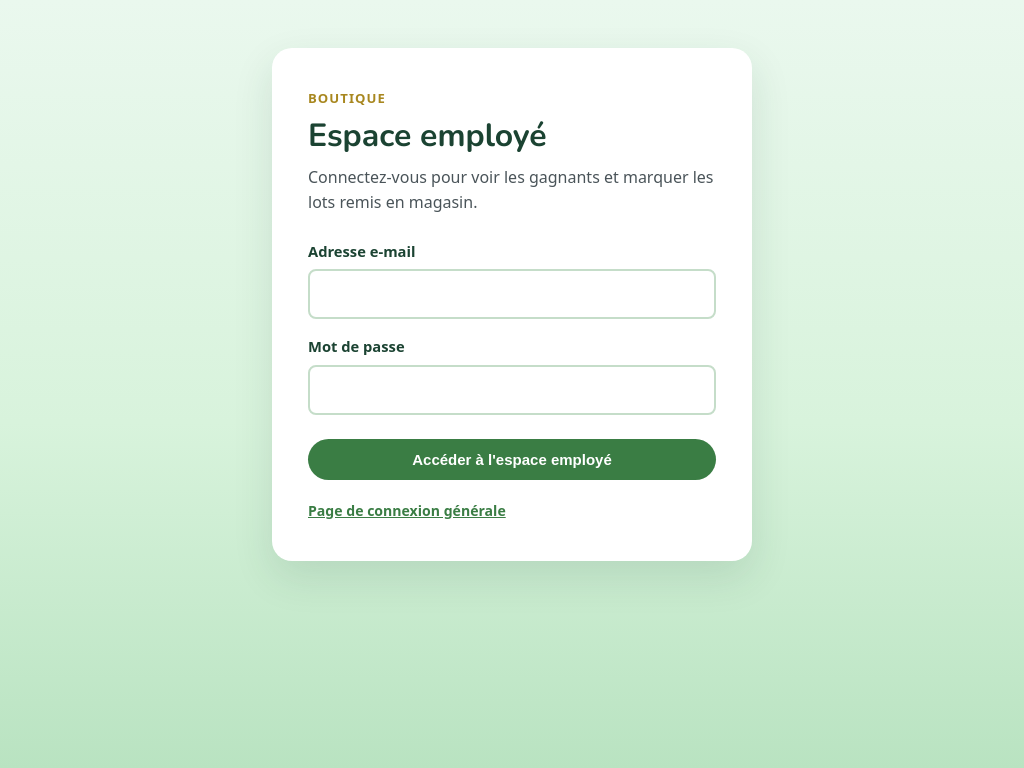
it: Employe › liste qui a gagné quoi après connexion employé
This screenshot has width=1024, height=768.
In the field labelled "Adresse e-mail": (512, 294) [308,269,716,319], type "employe@example.com"
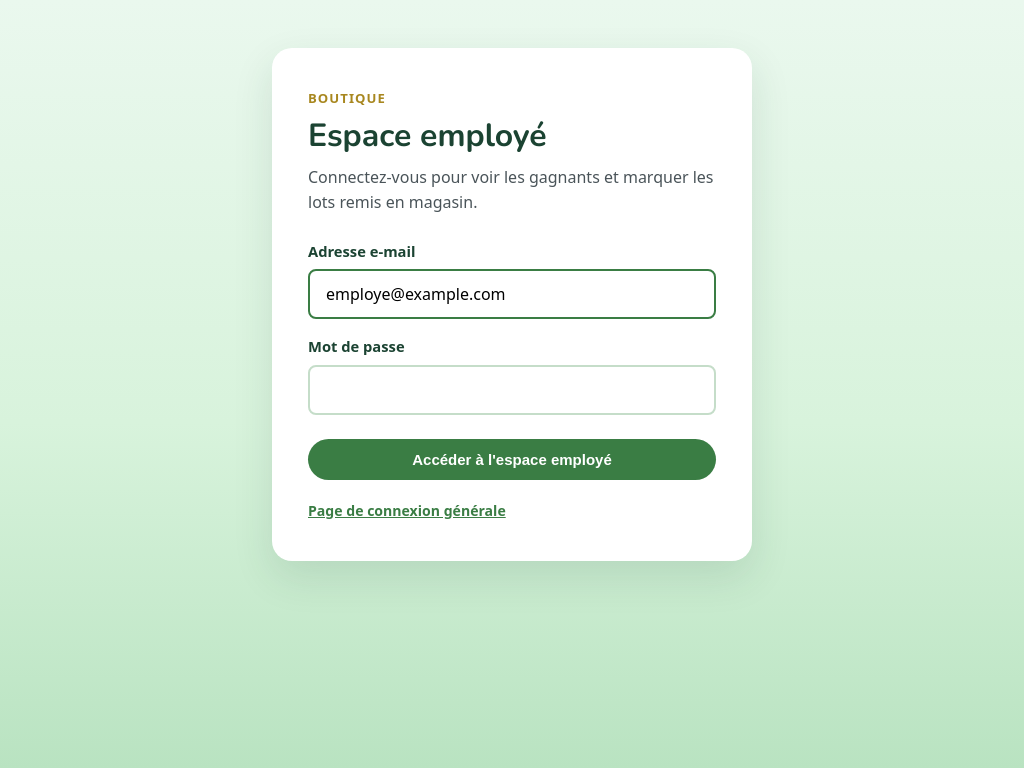
In the password field labelled "Mot de passe": (512, 390) [308,365,716,415], type "Password1!"
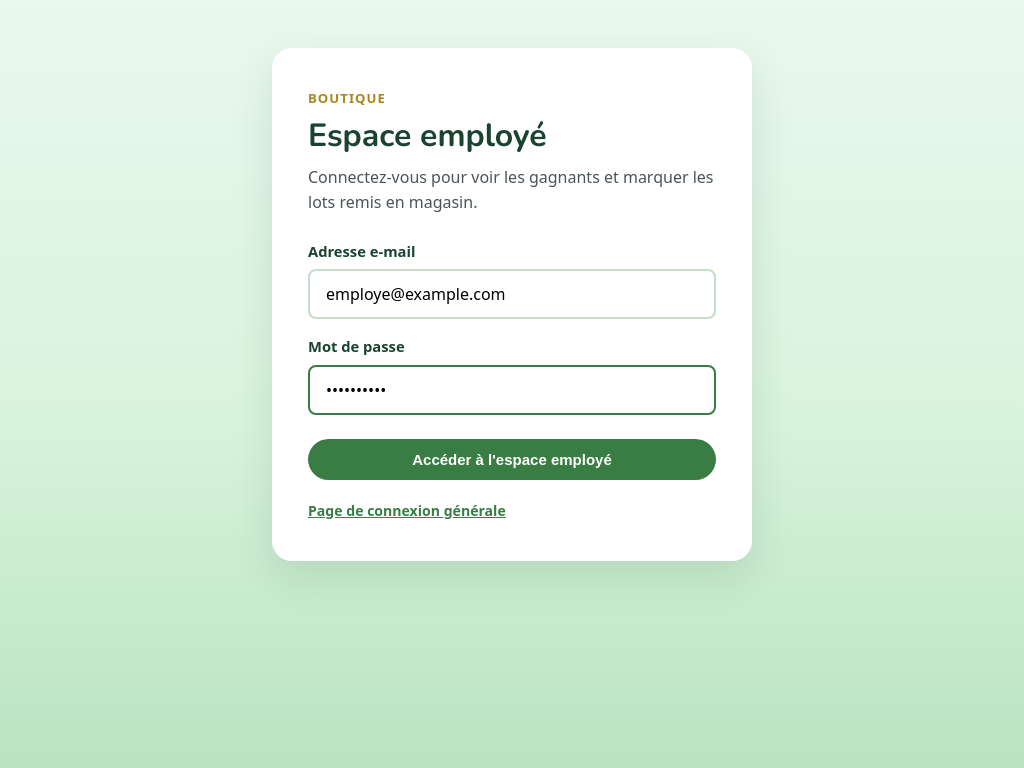
Click the button "Accéder à l'espace employé": (512, 459) [308,439,716,480]
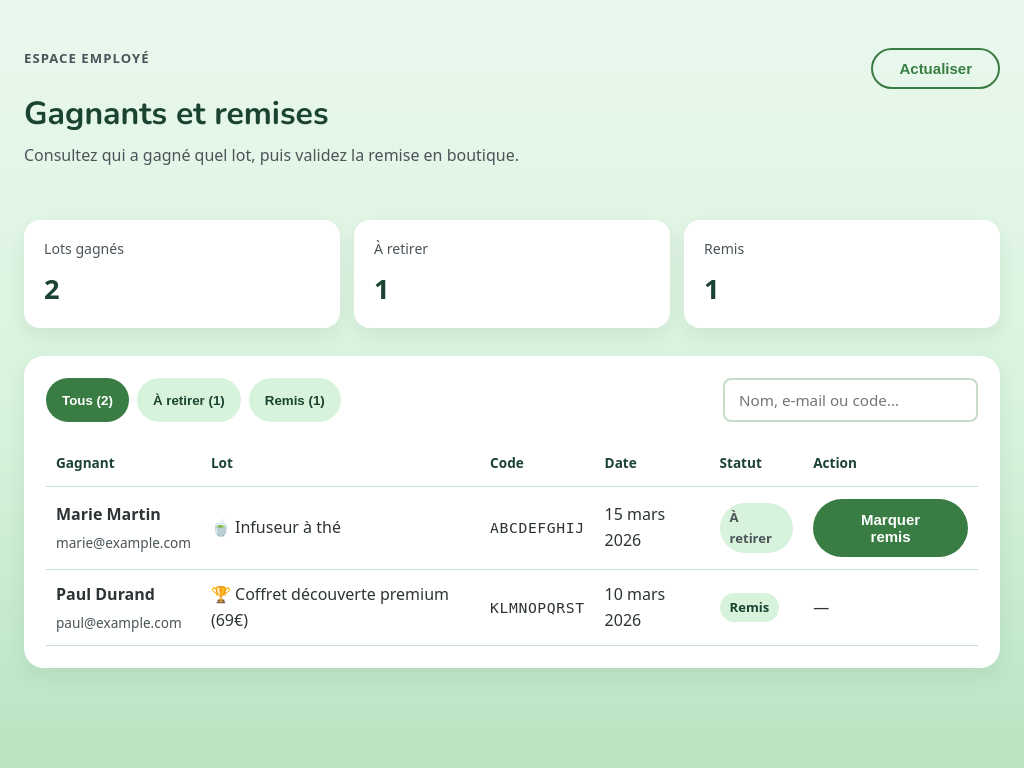
Now the heading "Gagnants et remises" is shown, box [24,92,329,135]
Now the text "Marie Martin" is shown, box [56,503,161,525]
Now the text "marie@example.com" is shown, box [56,532,191,554]
